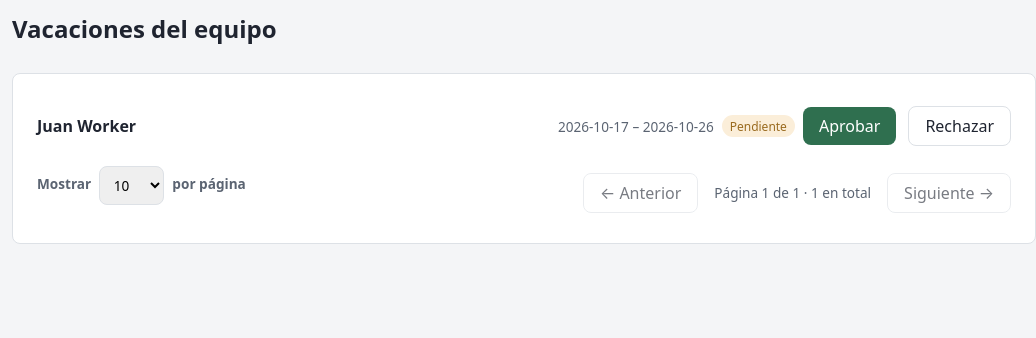
Scenario: SupervisorVacations › muestra el mensaje de un ApiError si falla rechazar una solicitud
Expected: the text "Juan Worker" is shown, x1=37 y1=115 x2=136 y2=137
Click the button "Rechazar" at {"x": 960, "y": 126}, box x1=908 y1=106 x2=1011 y2=146
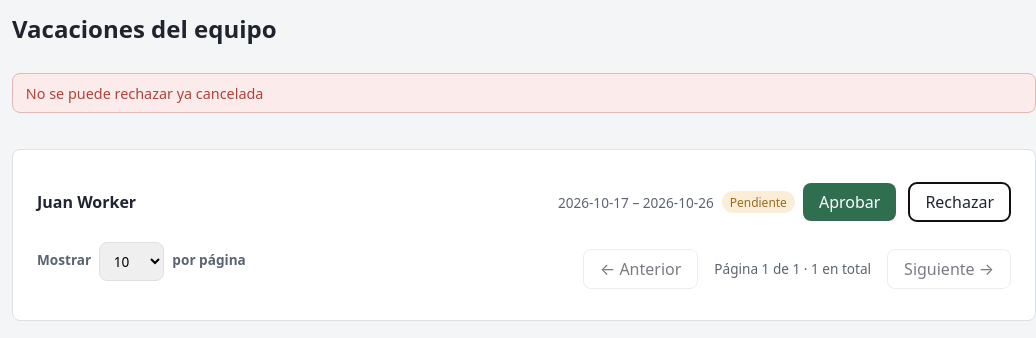
Now the text "No se puede rechazar ya cancelada" is shown, box x1=12 y1=73 x2=1035 y2=113
